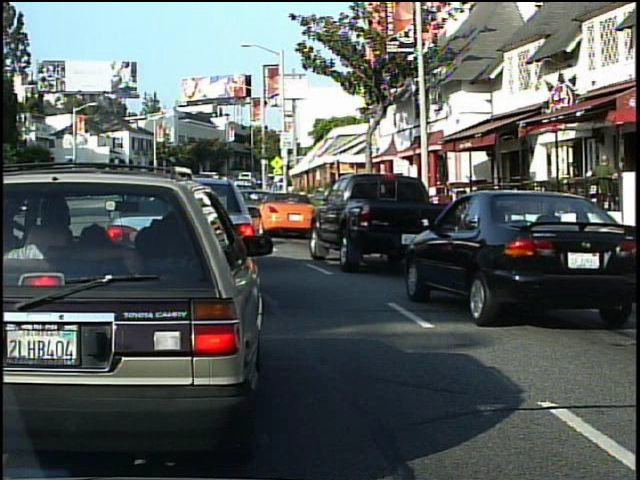person: (587, 149, 622, 233)
